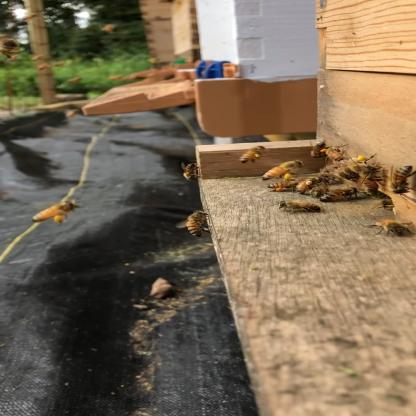bee: (288, 132, 416, 243), (275, 151, 379, 198), (16, 191, 107, 234), (165, 205, 213, 242), (158, 156, 216, 183), (274, 192, 343, 214), (0, 34, 36, 64), (225, 141, 269, 164)
